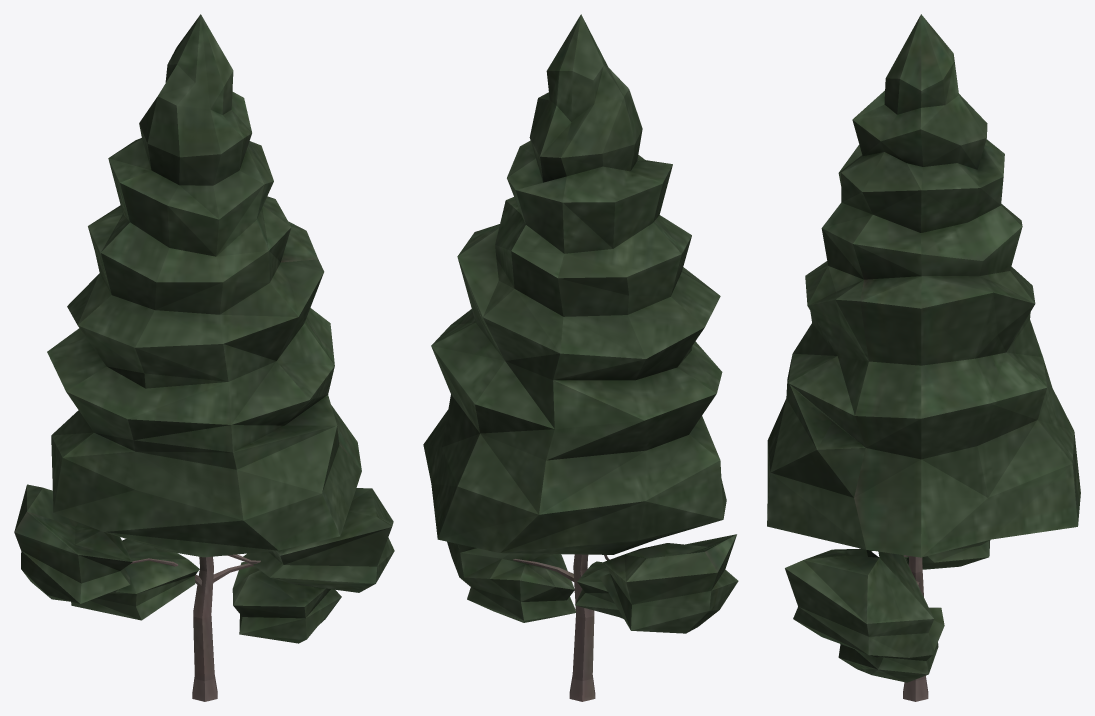
The model's file is spruce.glb.
3 views of the same model, side by side, from view 1: azimuth 30°, elevation 25°; view 2: azimuth 150°, elevation 25°; view 3: azimuth 270°, elevation 25° (orthographic).
Parts seen in each view (by area): view 1: SpruceTree_mesh; view 2: SpruceTree_mesh; view 3: SpruceTree_mesh.
Part boxes in pixels (<box>): SpruceTree_mesh: <box>14,14,394,701</box>; SpruceTree_mesh: <box>423,14,738,701</box>; SpruceTree_mesh: <box>767,14,1080,701</box>.
Size of the model in its own units: 8.27 by 16.34 by 6.83.
Materials: 1 (1 with a texture image).
